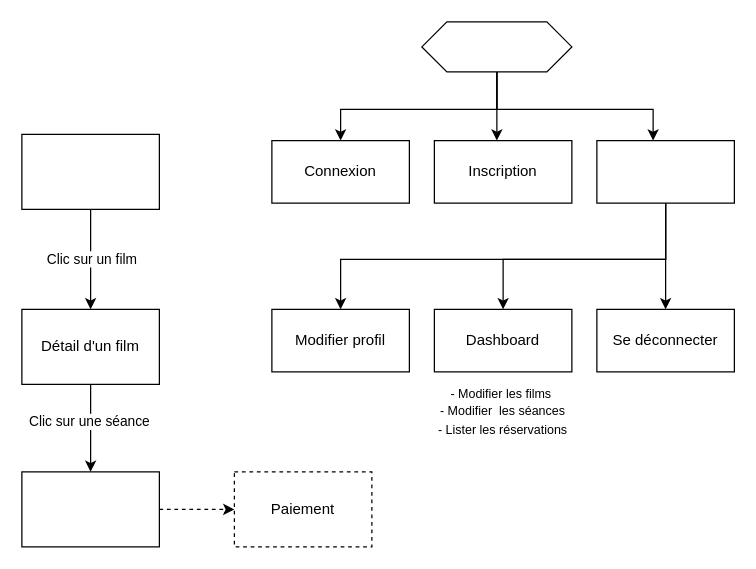
Image size: 756x569. Some labels were removed from this diagram. The shapes that lost their labels are listed below. From the top down, each one's centre as x and y in pixels, then its label:
At (x=496, y=46): "Navbar".
At (x=90, y=171): "Accueil".
At (x=665, y=171): "Profil".
At (x=90, y=509): "Réservation (modal)".
